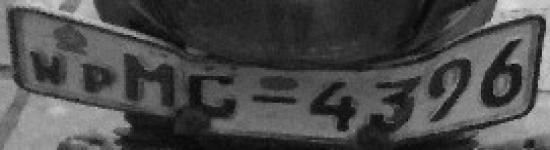-: (245, 92, 300, 109)
3: (364, 73, 423, 133)
4: (304, 76, 359, 132)
6: (478, 33, 529, 114)
9: (425, 55, 476, 128)
C: (186, 63, 242, 123)
M: (118, 48, 176, 112)
P: (77, 60, 119, 97)
W: (26, 45, 64, 88)
